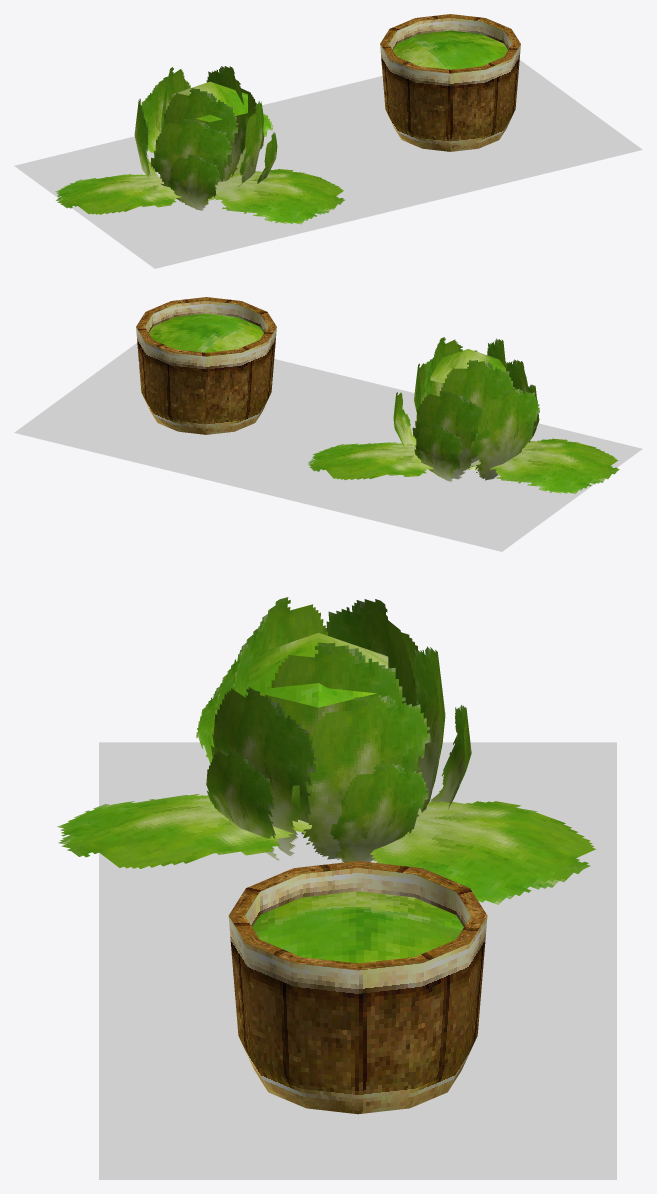
Rendered from Lettuce.fbx.
The picture shows the model from 3 angles, top to bottom: view 1: azimuth 30°, elevation 25°; view 2: azimuth 150°, elevation 25°; view 3: azimuth 270°, elevation 25°; orthographic projection. The views are drawn at different scales.
Parts seen in each view (by area): view 1: Plane002, lettuceleaf, Plane001, lettuce; view 2: Plane002, lettuceleaf, Plane001, lettuce; view 3: Plane002, lettuceleaf, lettuce, Plane001.
Boxes of the visible parts, box(x1,y1,x2,y2) form: Plane002: box(262, 60, 642, 209); lettuceleaf: box(55, 66, 344, 224); Plane001: box(14, 110, 398, 268); lettuce: box(380, 14, 520, 151); Plane002: box(14, 343, 398, 492); lettuceleaf: box(308, 337, 619, 494); Plane001: box(258, 389, 642, 551); lettuce: box(136, 297, 276, 434); Plane002: box(99, 961, 616, 1179); lettuceleaf: box(57, 597, 596, 904); lettuce: box(228, 861, 487, 1114); Plane001: box(99, 742, 616, 960).
Bounding box in the file's own units: 2.15 × 0.5107 × 1.21.
2 materials, 2 textured.
